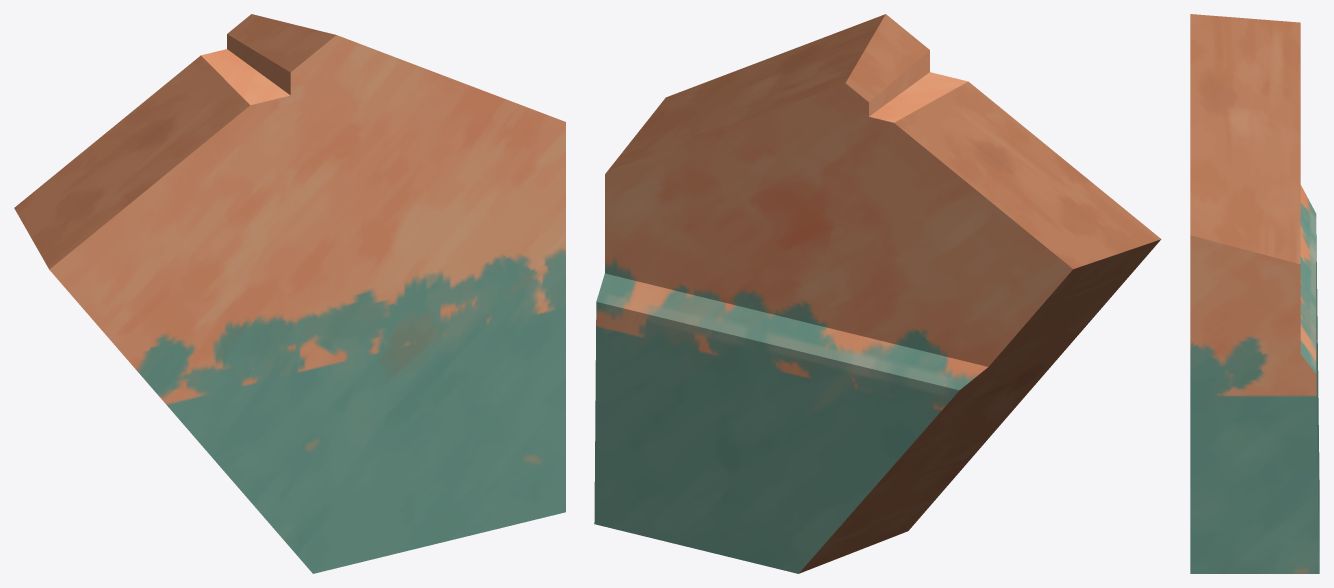
The model's file is wall_window_s01.fbx.
3 renders of one model, left to right at view 1: azimuth 30°, elevation 25°; view 2: azimuth 150°, elevation 25°; view 3: azimuth 270°, elevation 25°, orthographic. The views are drawn at different scales.
Parts seen in each view (by area): view 1: wall_window_s01; view 2: wall_window_s01; view 3: wall_window_s01.
Part boxes in pixels (x1=…): wall_window_s01: x1=14, y1=14, x2=565, y2=573; wall_window_s01: x1=594, y1=14, x2=1161, y2=573; wall_window_s01: x1=1190, y1=14, x2=1319, y2=573.
Bounding box in the file's own units: 4.69 × 4.63 × 1.17.
